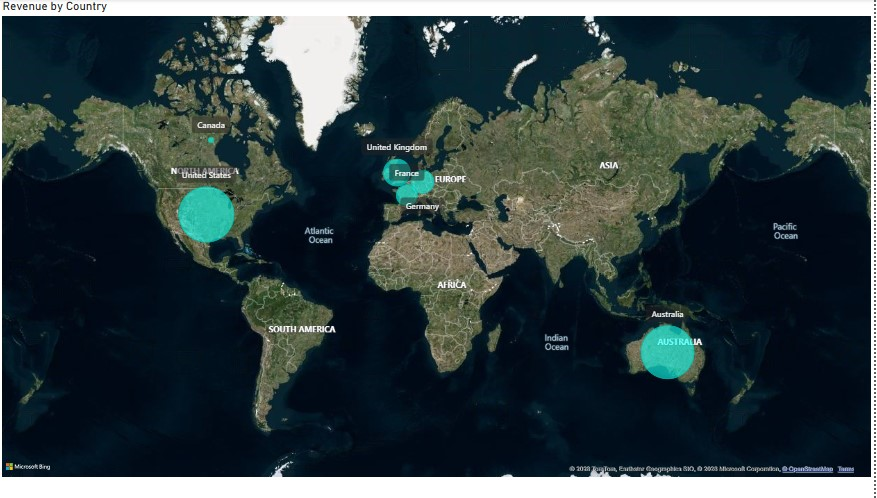

The dashboard page shown, as its layout file describes it:
{"tool":"powerbi","page":{"name":"GEOGRAPHIC INFORMATION","canvas":[1280,720],"ordinal":2},"visuals":[{"type":"map","title":"Revenue by Country","fields":{"Category":["Territory Lookup.Country"],"Size":["Measure Table.Total Revenue"]},"box":[18.7,0,1261.4,692.6],"z":0}]}

Visuals, with their boxes in screenshot pixels (x1, y1, x2, y2), scaled from the page's 1280x720 canvas onto the 877x498 screenshot:
"Revenue by Country" map: 13:0:876:479
